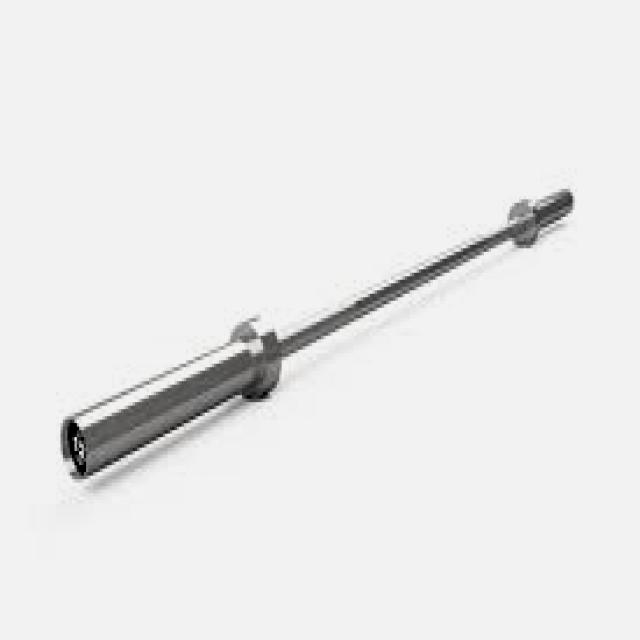barbell_plate_side: (58, 182, 187, 479), (444, 182, 573, 479)
